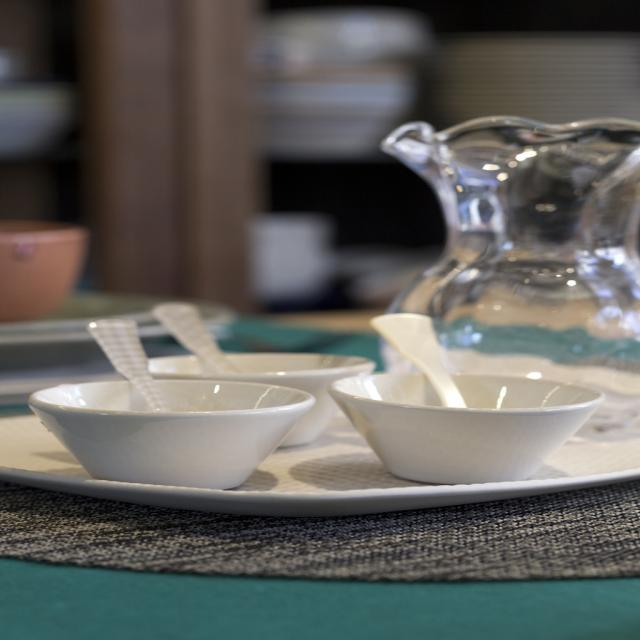ceramic plate: (0, 318, 629, 556)
